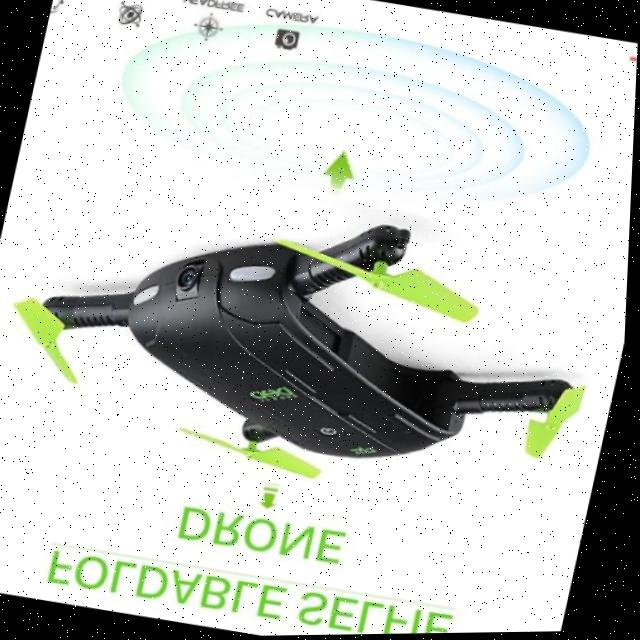drones: (0, 120, 636, 553)
